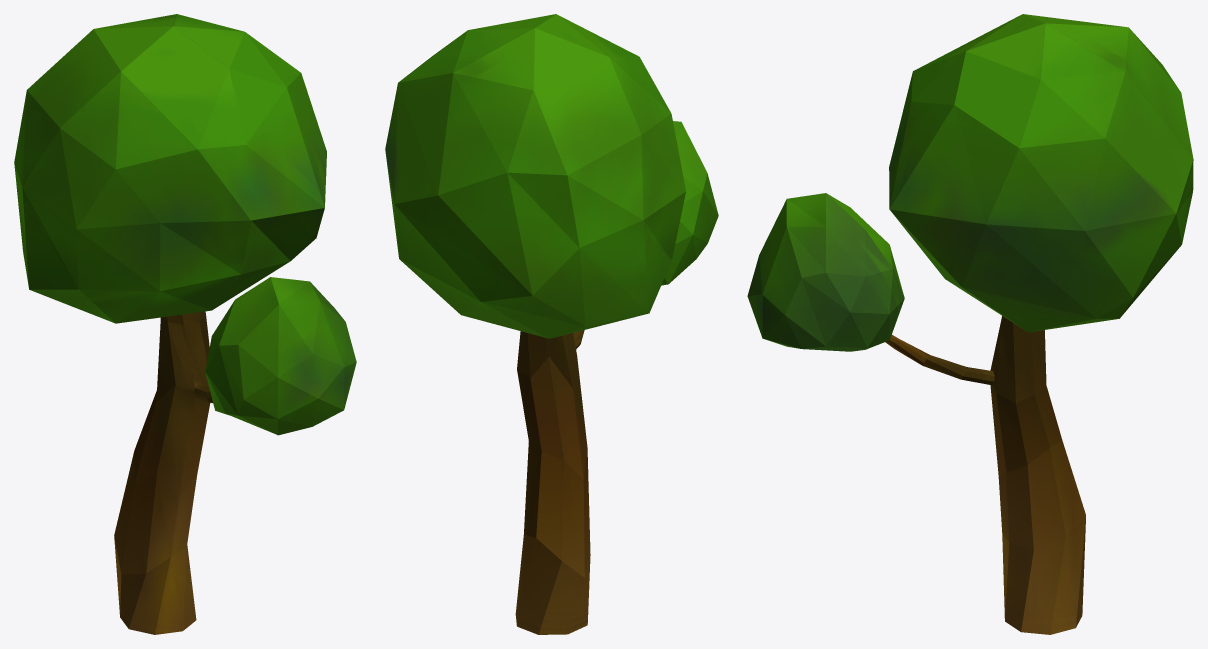
Rendered from tree_round_double_top.glb.
3 renders of one model, left to right at view 1: azimuth 30°, elevation 25°; view 2: azimuth 150°, elevation 25°; view 3: azimuth 270°, elevation 25°, orthographic. The views are drawn at different scales.
Visible parts, largest first — view 1: leaves-col, wood-col; view 2: leaves-col, wood-col; view 3: leaves-col, wood-col.
Boxes of the visible parts, x1,y1,x2,y2 form: leaves-col: (14, 14, 356, 435); wood-col: (114, 311, 212, 634); leaves-col: (385, 14, 718, 338); wood-col: (515, 330, 590, 634); leaves-col: (747, 14, 1193, 351); wood-col: (885, 316, 1085, 634).
Size of the model in its own units: 3.92 by 8.46 by 5.67.
2 materials, 2 textured.
